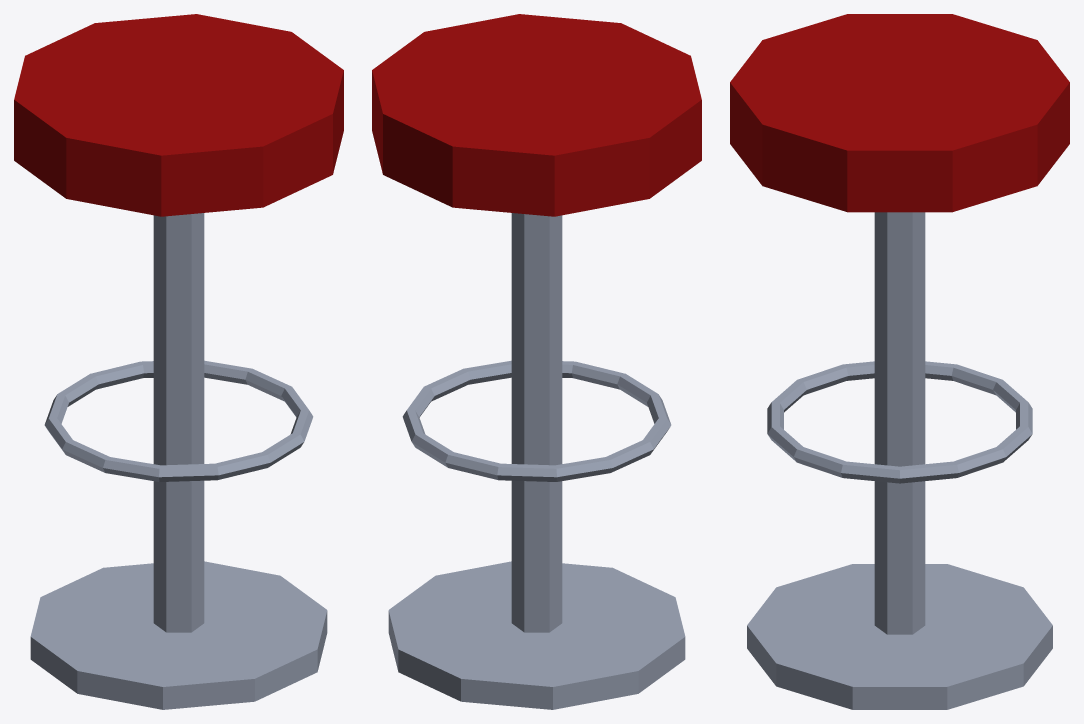
Rendered from bar_stool.obj.
3 renders of one model, left to right at view 1: azimuth 30°, elevation 25°; view 2: azimuth 150°, elevation 25°; view 3: azimuth 270°, elevation 25°, orthographic.
Visible parts, largest first — view 1: bar_stool; view 2: bar_stool; view 3: bar_stool.
Part boxes in pixels (box(x1,y1,x2,y2)): bar_stool: box(14, 14, 343, 709); bar_stool: box(372, 14, 701, 709); bar_stool: box(730, 14, 1069, 709).
Size of the model in its own units: 0.3804 by 0.735 by 0.4.
